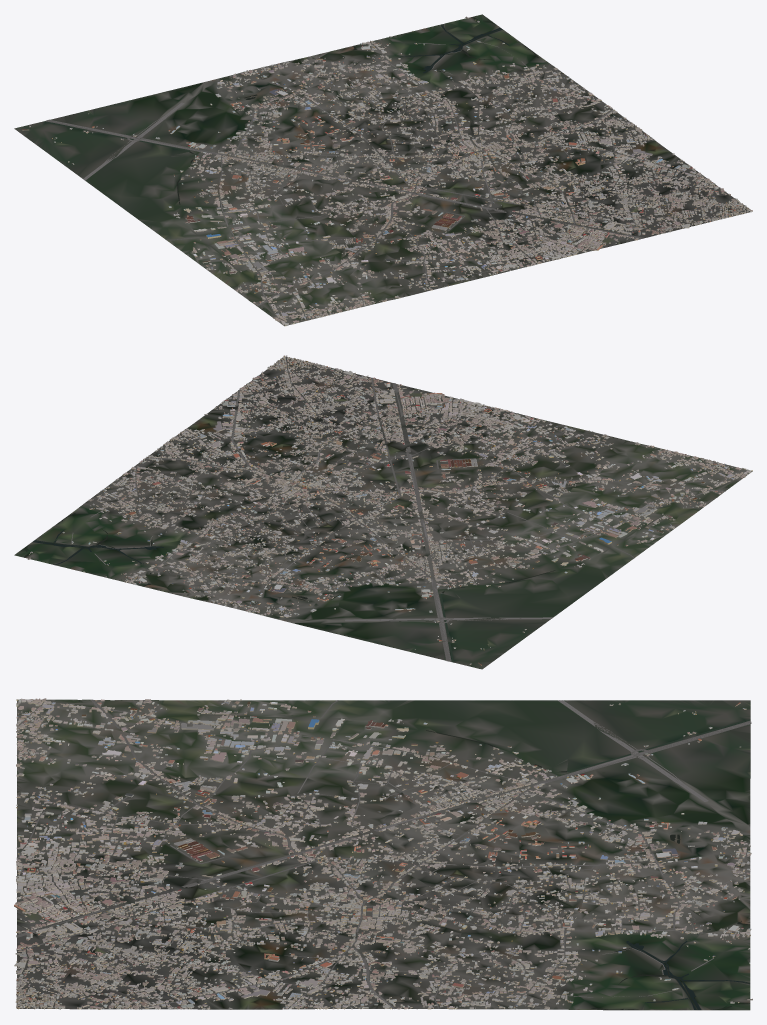
The picture shows the model from 3 angles, top to bottom: view 1: azimuth 30°, elevation 25°; view 2: azimuth 150°, elevation 25°; view 3: azimuth 270°, elevation 25°; orthographic projection. The views are drawn at different scales.
Parts seen in each view (by area): view 1: ground, buildings, roads, water; view 2: ground, buildings, roads, water; view 3: ground, buildings, roads, water.
Boxes of the visible parts, box(x1,y1,x2,y2) form: ground: box(14, 14, 749, 326); buildings: box(22, 16, 752, 326); roads: box(45, 42, 746, 324); water: box(43, 17, 538, 309); ground: box(14, 356, 752, 669); buildings: box(27, 355, 752, 665); roads: box(71, 358, 746, 661); water: box(24, 487, 729, 662); ground: box(16, 699, 750, 1010); buildings: box(14, 698, 752, 1009); roads: box(16, 699, 751, 1009); water: box(77, 700, 750, 1009).
Size of the model in its own units: 5623 by 50.3 by 5644.
